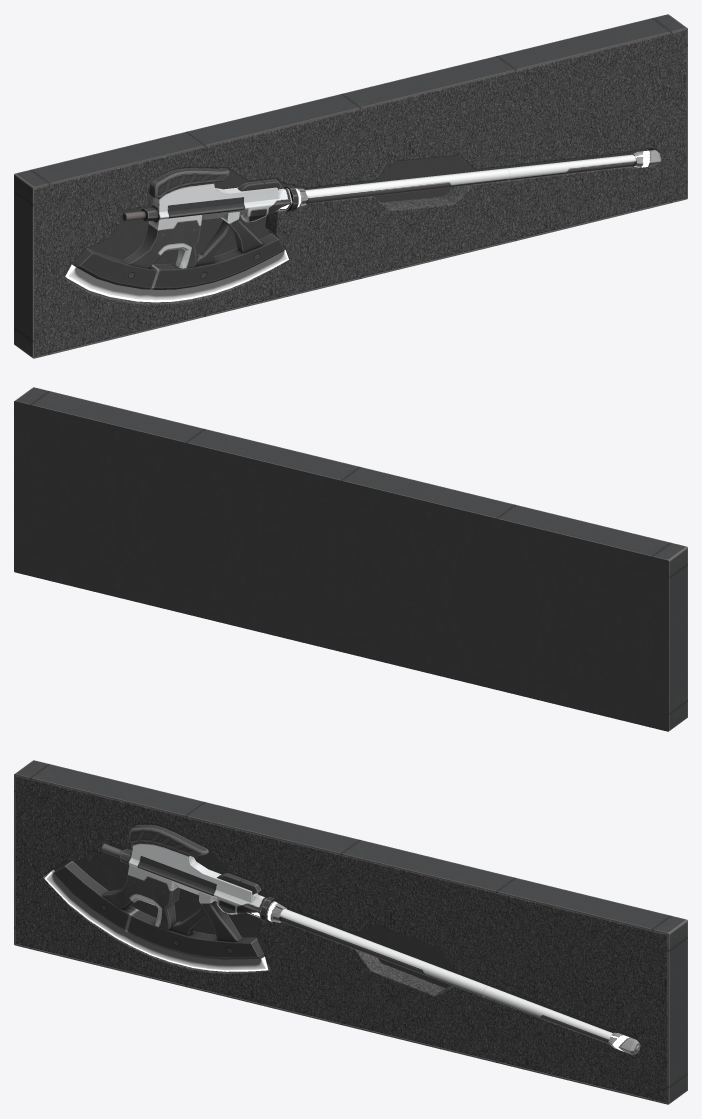
The model's file is MeleePoleAxe01Case.FBX.
The picture shows the model from 3 angles, top to bottom: view 1: azimuth 30°, elevation 25°; view 2: azimuth 150°, elevation 25°; view 3: azimuth 330°, elevation 25°; orthographic projection.
Visible parts, largest first — view 1: Case, Weapon; view 2: Case; view 3: Case, Weapon.
Part boxes in pixels (x1,y1,x2,y2): Case: [14, 14, 687, 358]; Weapon: [65, 150, 661, 302]; Case: [14, 387, 687, 731]; Case: [14, 760, 687, 1104]; Weapon: [44, 825, 640, 1054].
Size of what is drawn, in the model's own units: 2 by 0.5 by 0.1393.
